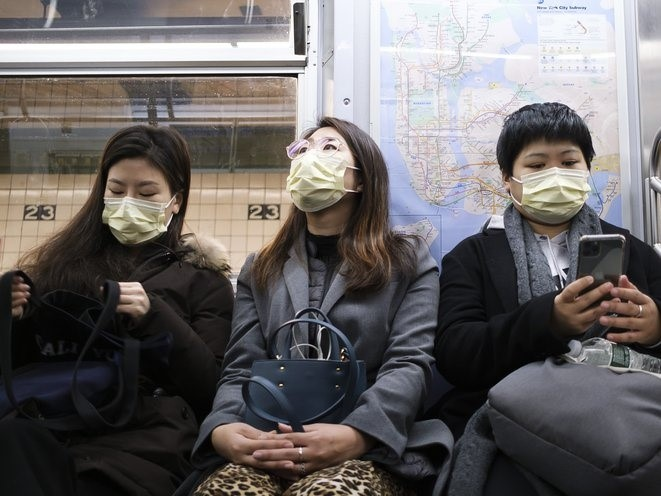face_with_mask: (281, 115, 390, 227), (95, 125, 191, 248), (501, 101, 591, 227)
